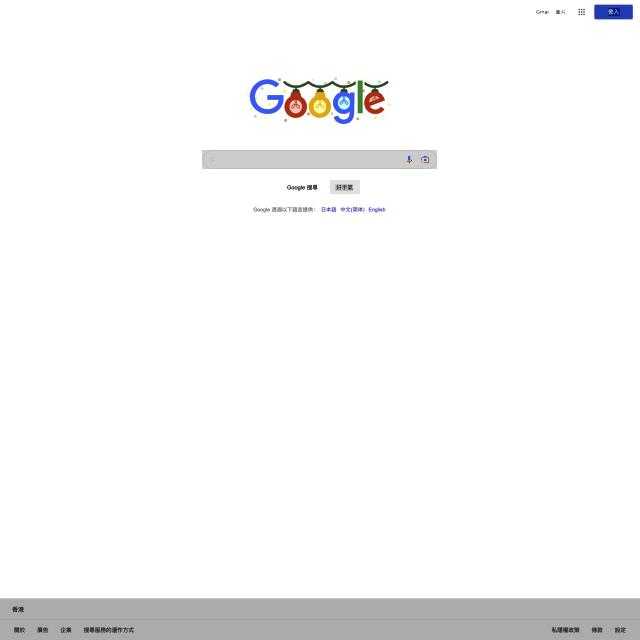CheckBox: (280, 180, 325, 195), (594, 4, 633, 20), (330, 180, 360, 194)
CheckedTextView: (202, 150, 437, 169)
badge: (0, 598, 640, 640)
carousel: (577, 6, 587, 18), (421, 155, 430, 164), (406, 155, 412, 164), (210, 156, 216, 163)
data feed: (286, 184, 319, 192), (335, 184, 353, 191), (608, 8, 620, 16)
date picker: (241, 72, 399, 131)
decoration: (534, 6, 568, 18)
